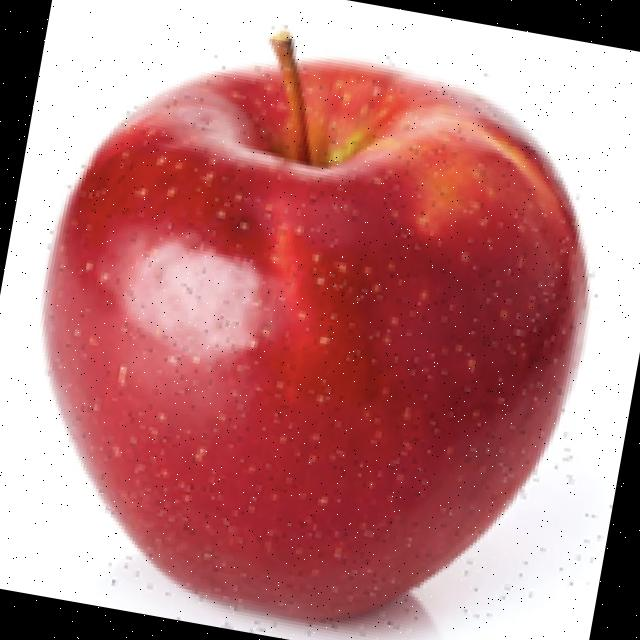apple: (36, 22, 598, 640)
